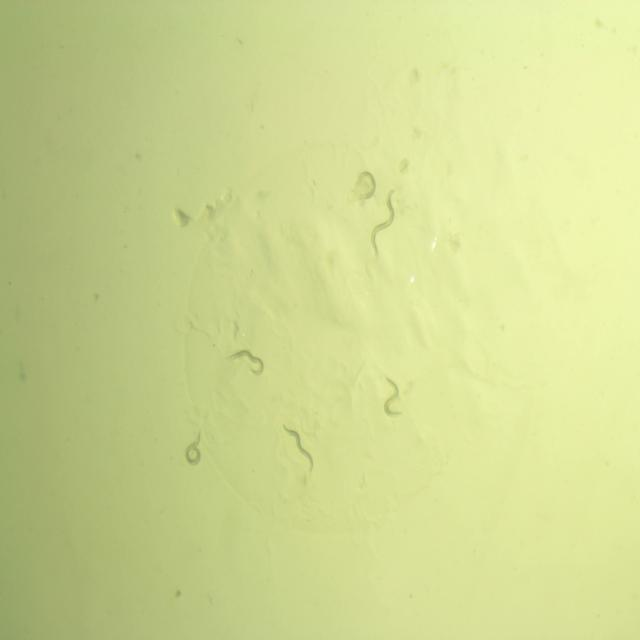worm: (366, 182, 398, 264), (280, 416, 316, 480), (222, 346, 270, 379), (380, 371, 408, 424), (180, 424, 207, 471), (348, 167, 378, 205)
